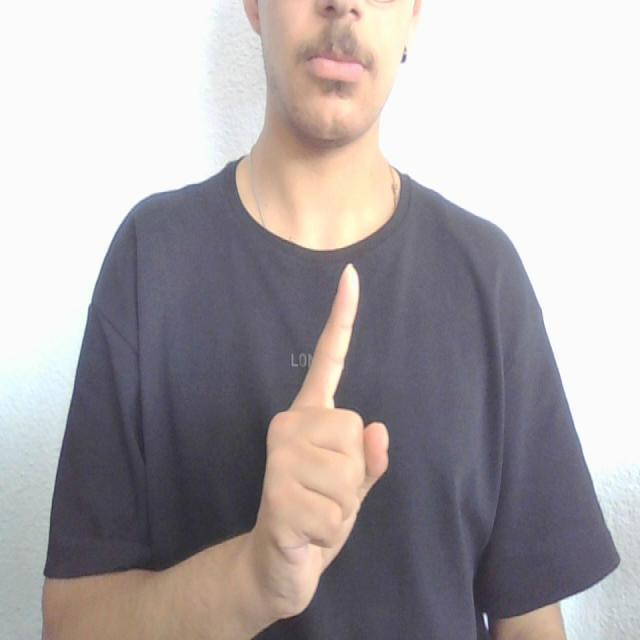Hayir: (234, 248, 404, 628)
